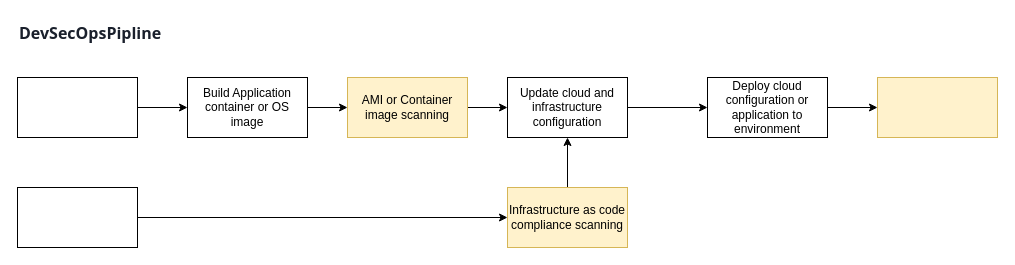
The diagram is 1015 pixels wide and 265 high, and some of its shapes have lost their labels. Here are the shapes that lost their labels. From the top down, the box of each, then its label:
(16, 76, 138, 138): Application Code or OS Change
(876, 76, 998, 138): Post-deployment compliance scanning
(16, 186, 138, 248): Infrastructure code change
